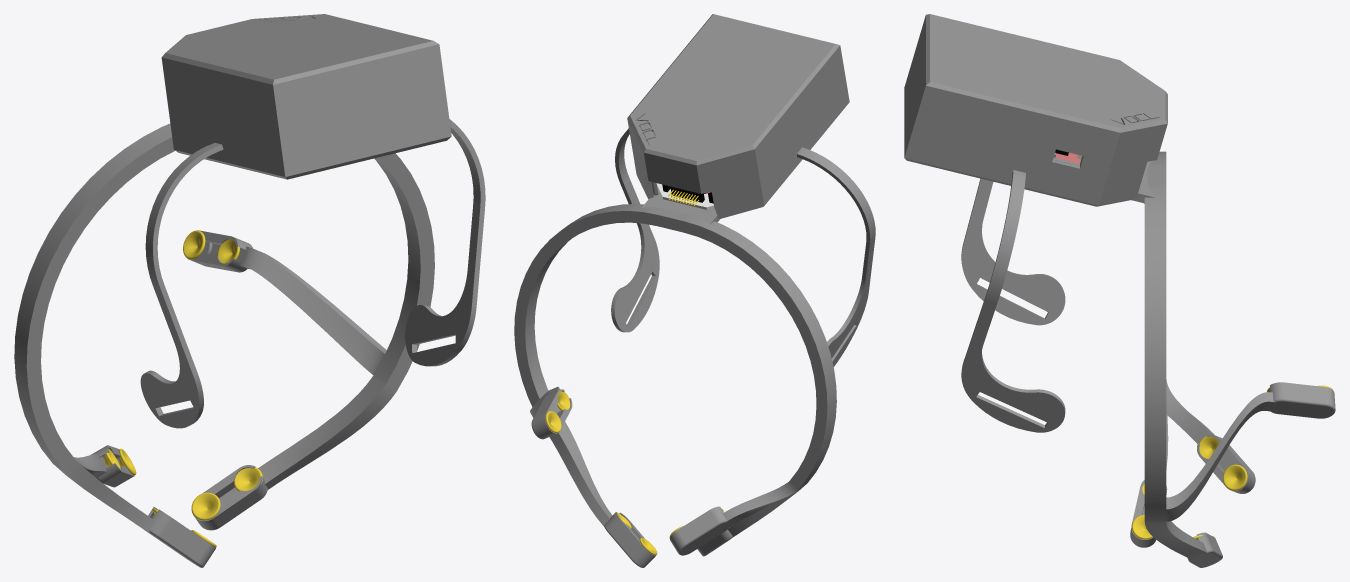
Rendered from vocl-device.gltf.
3 views of the same model, side by side, from view 1: azimuth 30°, elevation 25°; view 2: azimuth 150°, elevation 25°; view 3: azimuth 270°, elevation 25° (orthographic). The views are drawn at different scales.
Visible parts, largest first — view 1: cyton top, Part 4, cyton bottom, Part 1 (×6), Part 5-Mirrored, Part 5, Part 3, Part 2; view 2: cyton top, Part 4, cyton bottom, Part 1 (×4), Part 5, Part 5-Mirrored, Part 2; view 3: cyton top, cyton bottom, Part 4, Part 5, Part 5-Mirrored, Part 1 (×4), Part 3, Part 2.
Part boxes in pixels (bbox=[...]): cyton top: bbox=[161, 14, 445, 130]; Part 4: bbox=[14, 123, 434, 472]; cyton bottom: bbox=[168, 90, 451, 179]; Part 1 (×6): bbox=[53, 230, 271, 567]; Part 5-Mirrored: bbox=[140, 143, 223, 428]; Part 5: bbox=[405, 119, 485, 366]; Part 3: bbox=[242, 247, 386, 374]; Part 2: bbox=[258, 375, 396, 487]; cyton top: bbox=[627, 14, 844, 209]; Part 4: bbox=[514, 204, 836, 489]; cyton bottom: bbox=[632, 74, 849, 237]; Part 1 (×4): bbox=[531, 389, 806, 567]; Part 5: bbox=[611, 128, 659, 332]; Part 5-Mirrored: bbox=[797, 147, 875, 366]; Part 2: bbox=[549, 422, 612, 523]; cyton top: bbox=[915, 14, 1167, 169]; cyton bottom: bbox=[904, 52, 1155, 206]; Part 4: bbox=[1144, 151, 1166, 521]; Part 5: bbox=[961, 170, 1065, 432]; Part 5-Mirrored: bbox=[961, 178, 1065, 325]; Part 1 (×4): bbox=[1166, 379, 1335, 567]; Part 3: bbox=[1166, 392, 1270, 521]; Part 2: bbox=[1145, 521, 1206, 559].
Size of the model in its own units: 0.1816 by 0.25 by 0.1902.
